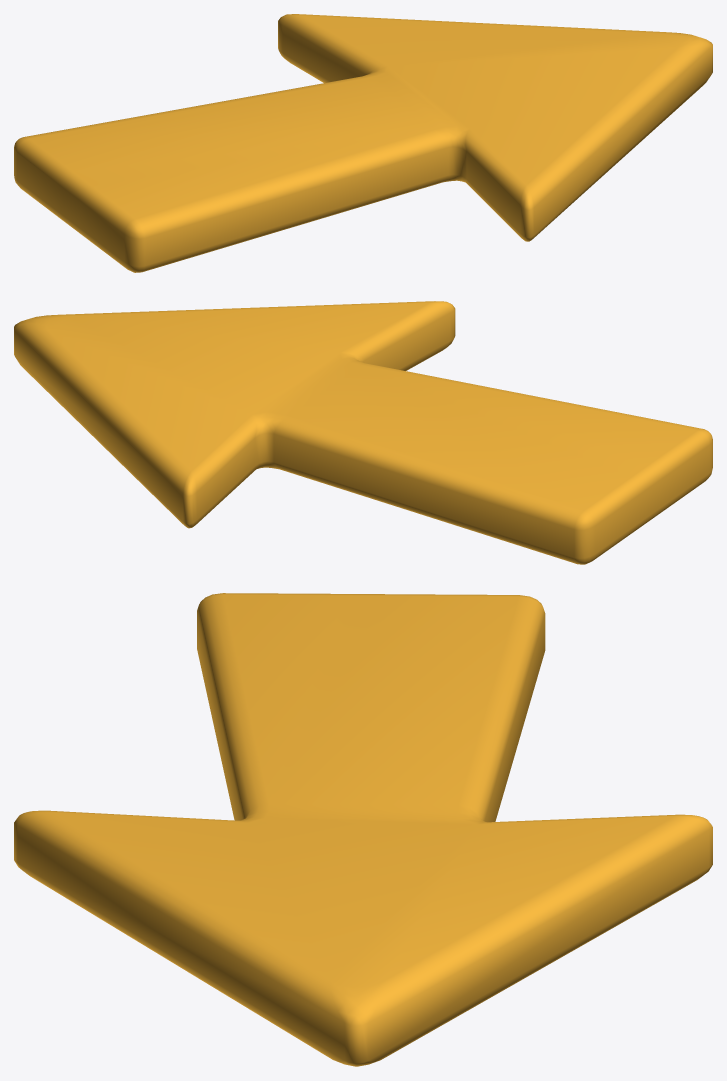
Rendered from direction_arrow_orange.glb.
3 views of the same model, one above another, from view 1: azimuth 30°, elevation 25°; view 2: azimuth 150°, elevation 25°; view 3: azimuth 270°, elevation 25° (orthographic). The views are drawn at different scales.
Parts seen in each view (by area): view 1: Arrow_Material.001_0; view 2: Arrow_Material.001_0; view 3: Arrow_Material.001_0.
Boxes of the visible parts, left/top/right/bottom form: Arrow_Material.001_0: left=14, top=14, right=712, bottom=272; Arrow_Material.001_0: left=14, top=301, right=712, bottom=564; Arrow_Material.001_0: left=14, top=593, right=712, bottom=1066.
Size of the model in its own units: 3.01 by 0.2343 by 2.11.
